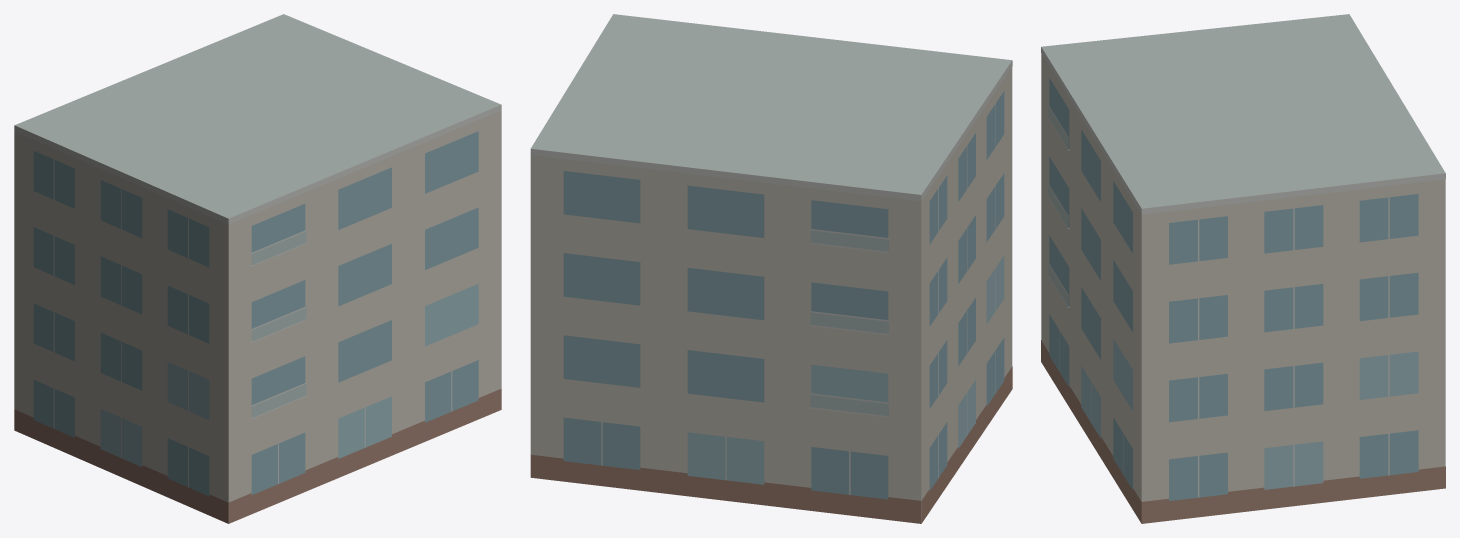
The model's file is survey-upis-33010164.glb.
The picture shows the model from 3 angles, left to right: view 1: azimuth 30°, elevation 25°; view 2: azimuth 150°, elevation 25°; view 3: azimuth 270°, elevation 25°; orthographic projection. The views are drawn at different scales.
Visible parts, largest first — view 1: survey-upis-33010164.tmp; view 2: survey-upis-33010164.tmp; view 3: survey-upis-33010164.tmp.
Boxes of the visible parts, <box> form: survey-upis-33010164.tmp: <box>14,14,501,523</box>; survey-upis-33010164.tmp: <box>530,14,1012,523</box>; survey-upis-33010164.tmp: <box>1041,14,1445,523</box>.
Size of the model in its own units: 16.97 by 12.8 by 14.91.
